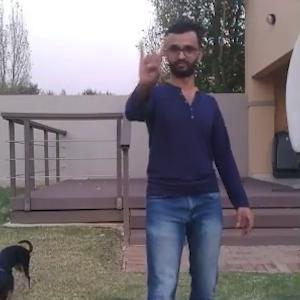takeoff-hand: (132, 34, 167, 86)
